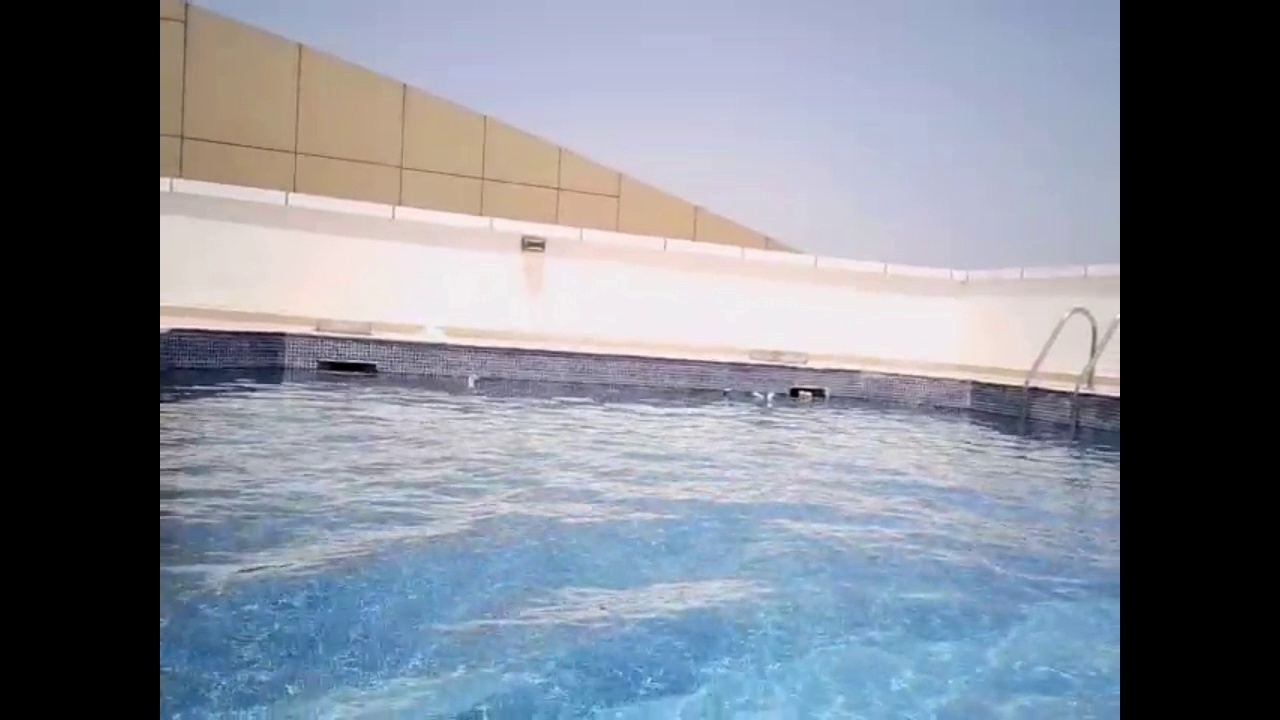debris: (745, 387, 768, 404), (758, 391, 778, 407), (719, 384, 738, 400), (795, 388, 815, 403), (466, 372, 480, 388)
